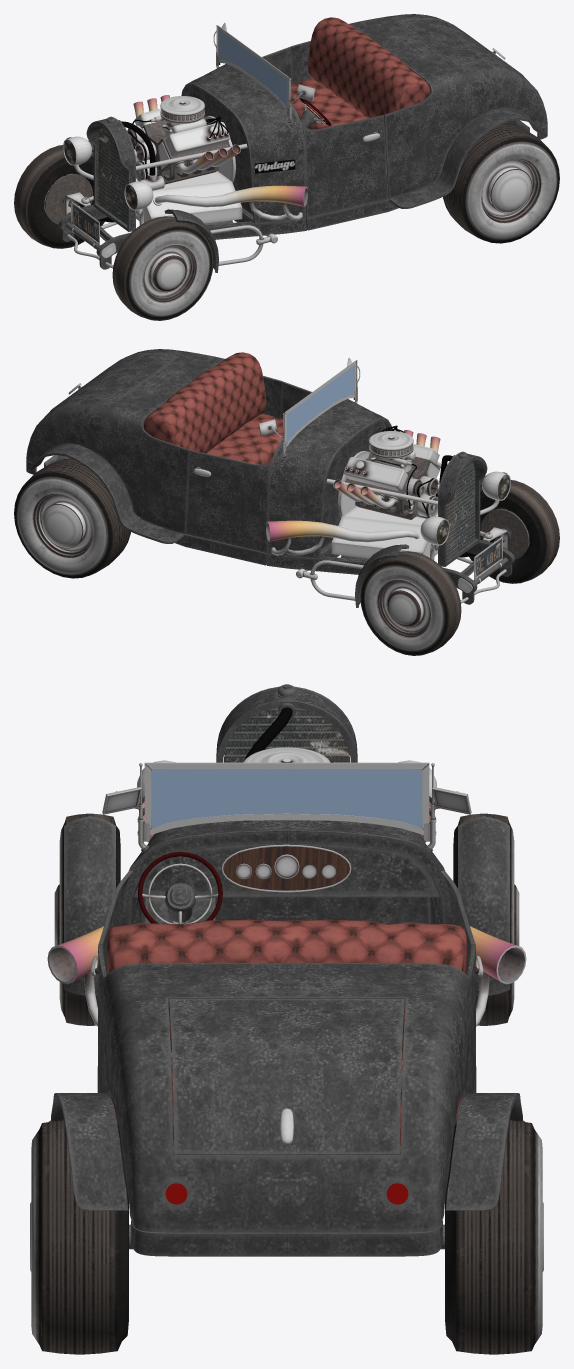
File: hotrod_texture_baked.glb
3 views of the same model, one above another, from view 1: azimuth 30°, elevation 25°; view 2: azimuth 150°, elevation 25°; view 3: azimuth 270°, elevation 25° (orthographic). The views are drawn at different scales.
Visible parts, largest first — view 1: hotrod_primary, hotrod_secondary, hotrod_rear_wheel_L, hotrod_front_wheel_L, hotrod_front_wheel_R; view 2: hotrod_primary, hotrod_secondary, hotrod_rear_wheel_R, hotrod_front_wheel_R, hotrod_front_wheel_L; view 3: hotrod_primary, hotrod_secondary, hotrod_rear_wheel_L, hotrod_rear_wheel_R, hotrod_front_wheel_L, hotrod_front_wheel_R.
Boxes of the visible parts, x1,y1,x2,y2 form: hotrod_primary: [45, 14, 547, 272]; hotrod_secondary: [63, 17, 505, 268]; hotrod_rear_wheel_L: [443, 123, 559, 243]; hotrod_front_wheel_L: [112, 216, 213, 320]; hotrod_front_wheel_R: [14, 145, 107, 248]; hotrod_primary: [26, 349, 528, 607]; hotrod_secondary: [68, 352, 510, 603]; hotrod_rear_wheel_R: [14, 458, 130, 578]; hotrod_front_wheel_R: [360, 551, 461, 655]; hotrod_front_wheel_L: [466, 480, 559, 583]; hotrod_primary: [49, 684, 524, 1256]; hotrod_secondary: [47, 707, 526, 1145]; hotrod_rear_wheel_L: [30, 1120, 128, 1354]; hotrod_rear_wheel_R: [445, 1120, 543, 1354]; hotrod_front_wheel_L: [54, 813, 120, 1025]; hotrod_front_wheel_R: [453, 813, 519, 1025].
Bounding box in the file's own units: 4.72 × 1.97 × 2.36.
Materials: 3 (3 with a texture image).
